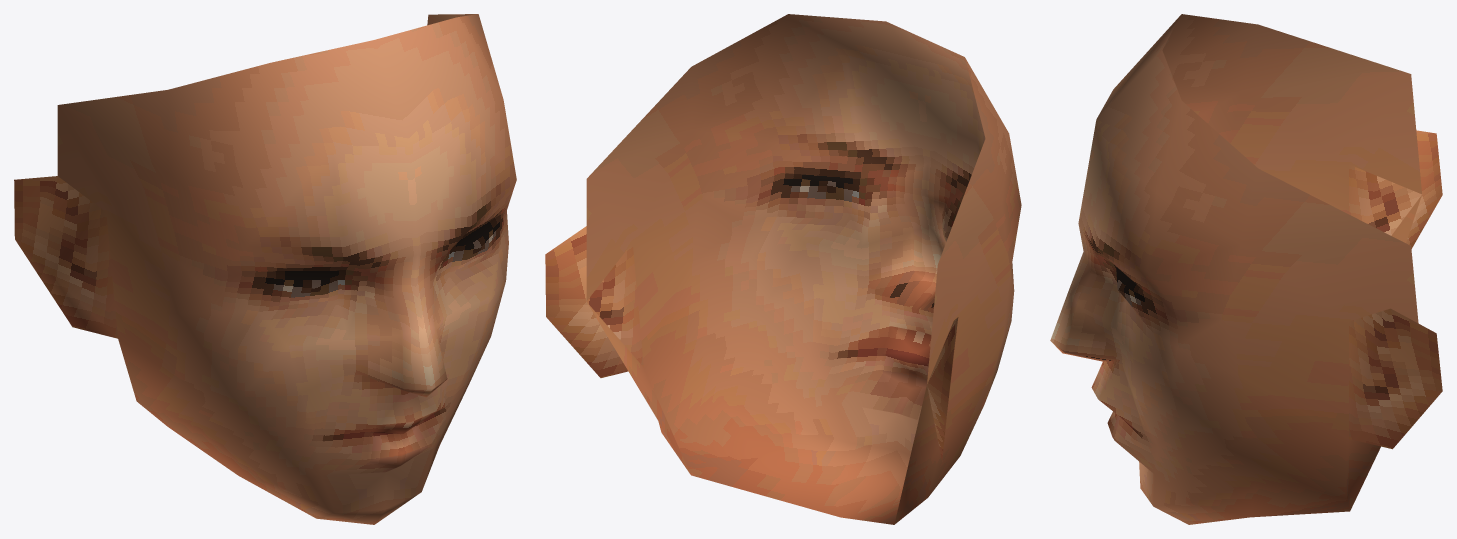
File: m_hair018.glb
3 renders of one model, left to right at view 1: azimuth 30°, elevation 25°; view 2: azimuth 150°, elevation 25°; view 3: azimuth 270°, elevation 25°, orthographic. The views are drawn at different scales.
Size of the model in its own units: 17.18 by 18.68 by 14.26.
Materials: 1 (1 with a texture image).
